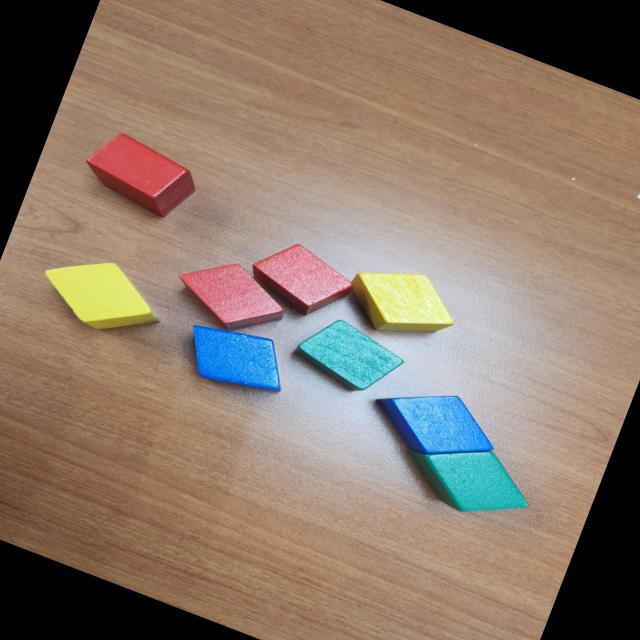blue: (363, 368, 507, 478), (175, 312, 297, 406)
green: (392, 424, 542, 534), (286, 307, 409, 405)
red: (166, 245, 296, 349), (76, 125, 207, 228), (244, 232, 360, 328)
yellow: (32, 240, 175, 350), (338, 252, 468, 356)
